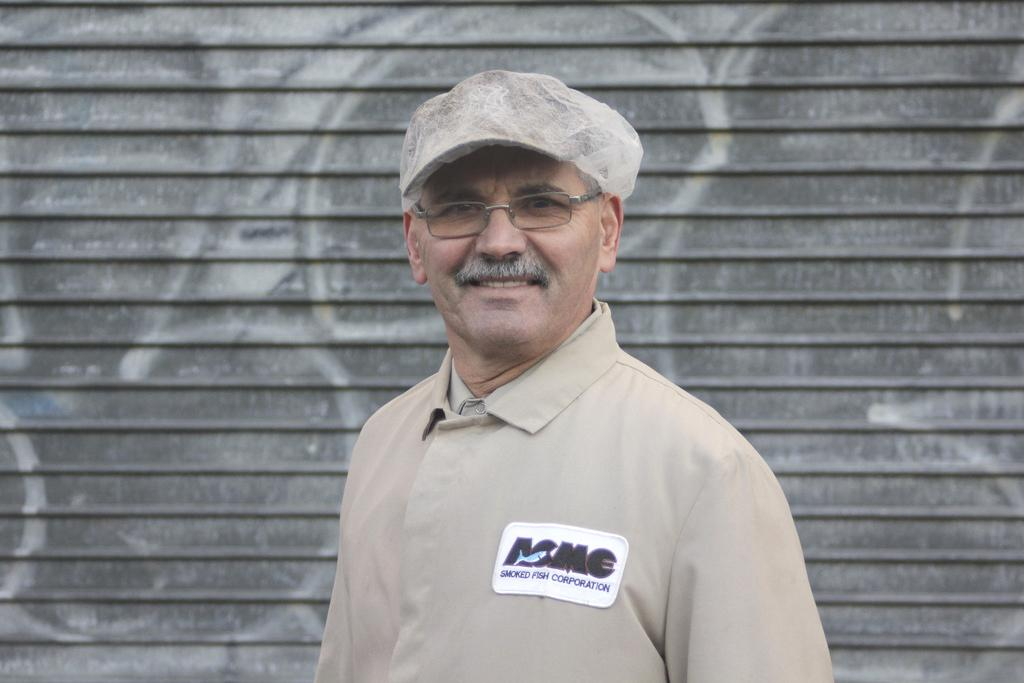Hat: (396, 66, 638, 211)
